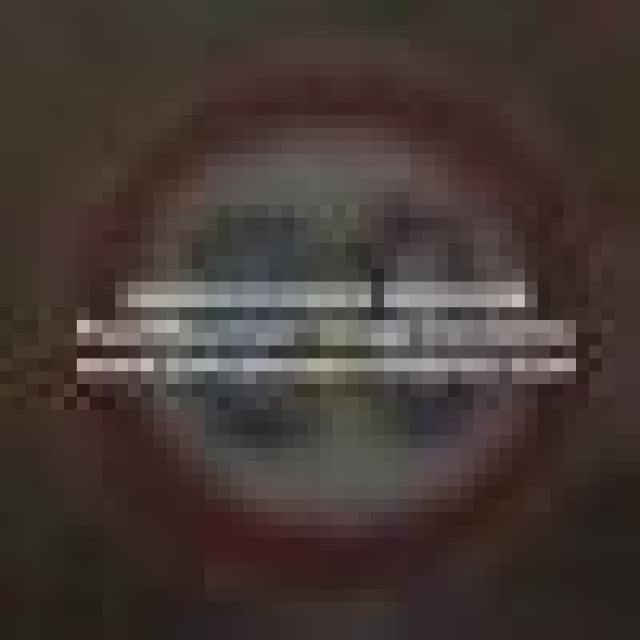SPEED_LIMIT_80: (51, 51, 589, 538)
